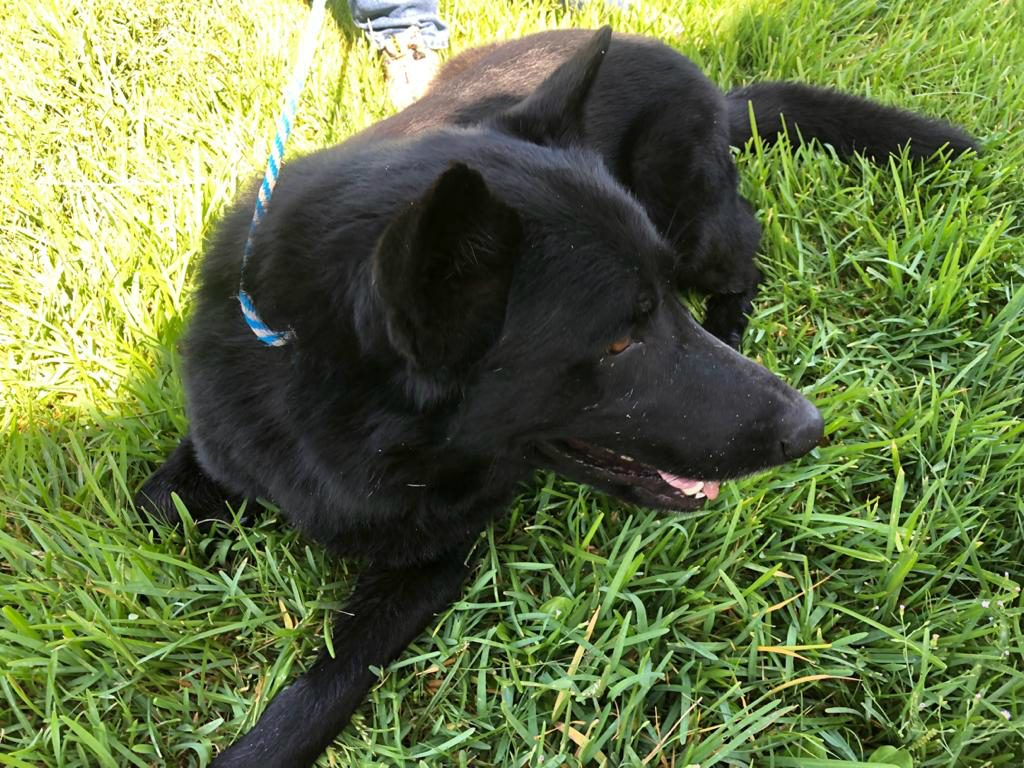Lobo: (155, 14, 882, 681)
